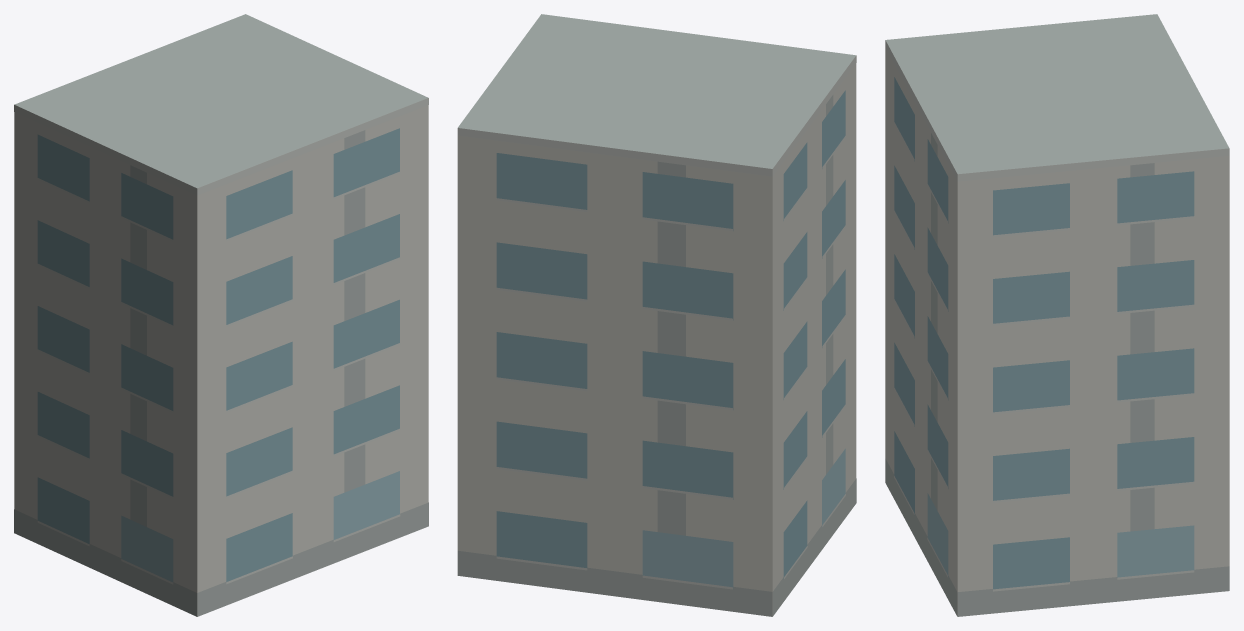
Rendered from survey-upis-32801868.glb.
3 views of the same model, side by side, from view 1: azimuth 30°, elevation 25°; view 2: azimuth 150°, elevation 25°; view 3: azimuth 270°, elevation 25° (orthographic). The views are drawn at different scales.
Visible parts, largest first — view 1: survey-upis-32801868.tmp; view 2: survey-upis-32801868.tmp; view 3: survey-upis-32801868.tmp.
Part boxes in pixels (x1,y1,x2,y2): survey-upis-32801868.tmp: [14, 14, 428, 616]; survey-upis-32801868.tmp: [457, 14, 856, 616]; survey-upis-32801868.tmp: [885, 14, 1229, 616].
Size of the model in its own units: 11.11 by 14.3 by 10.09.
